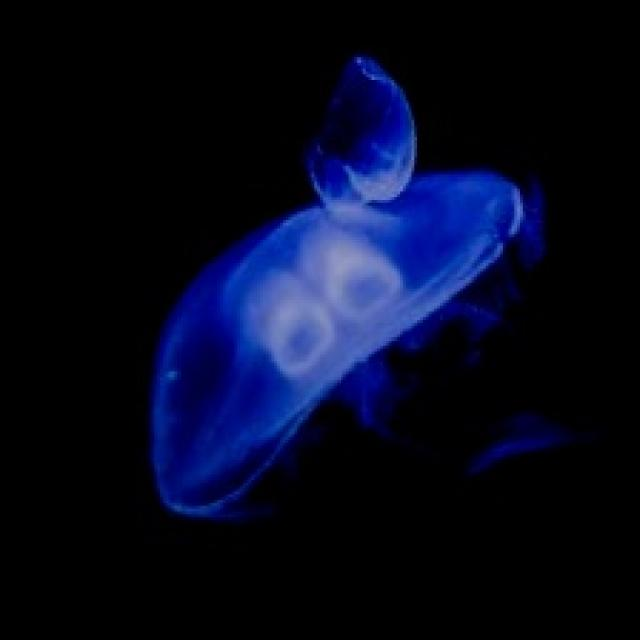Moon-jellyfish: (146, 52, 540, 517)
